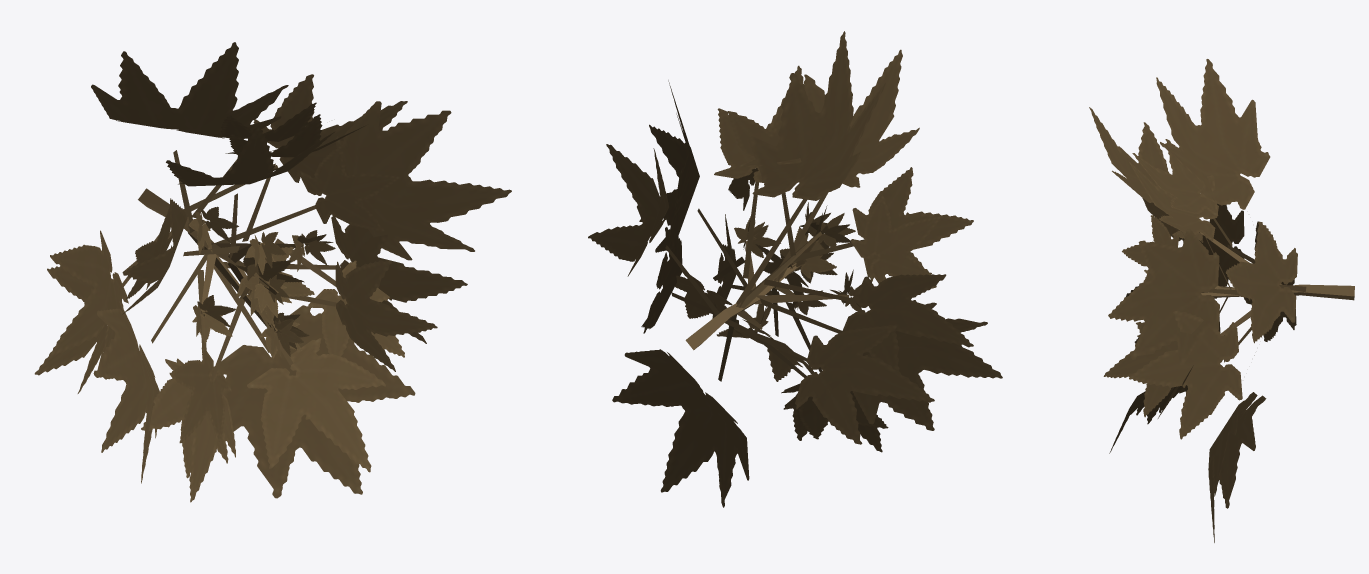
File: p_kush_vegetative_c3_cards.obj
3 views of the same model, side by side, from view 1: azimuth 30°, elevation 25°; view 2: azimuth 150°, elevation 25°; view 3: azimuth 270°, elevation 25° (orthographic). The views are drawn at different scales.
Size of the model in its own units: 1.15 by 1.45 by 0.793.
Materials: 1 (1 with a texture image).
